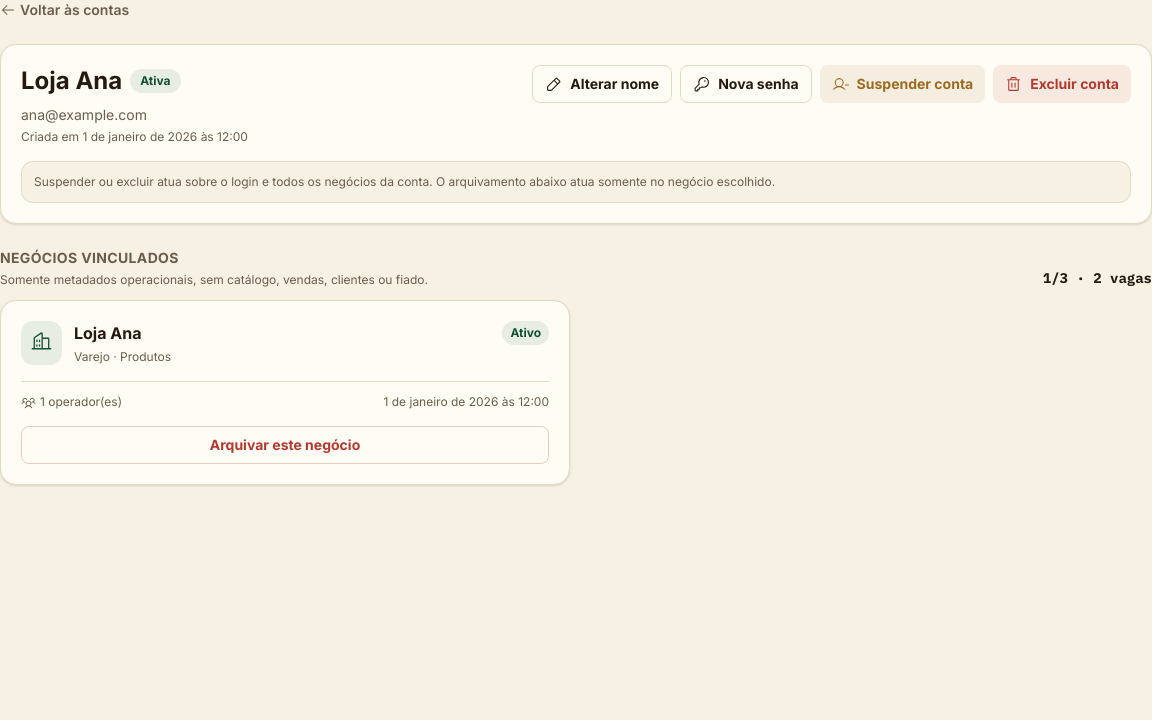
Test: poderes administrativos no detalhe do cliente › só libera a alteração depois que o nome exibido é digitado
The width and height of the screenshot is (1152, 720).
Expected: the heading "Loja Ana" next to "Ativa" is shown, top-left (21, 65), bottom-right (122, 97)
Click the button "Alterar nome": (602, 84) top-left (532, 65), bottom-right (672, 103)
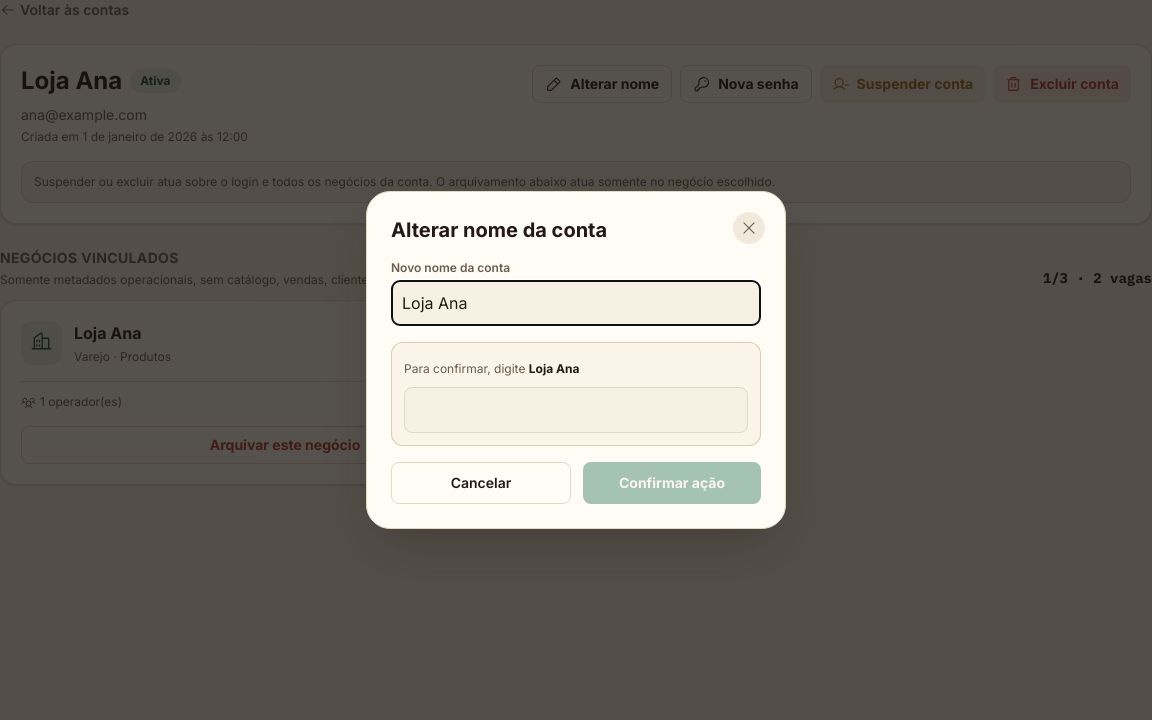
Expected: the button "Confirmar ação" is disabled, top-left (583, 462), bottom-right (761, 504)
Replace the text in the field labelled "Novo nome da conta" with "Mercado Ana": (576, 303) top-left (391, 280), bottom-right (761, 326)
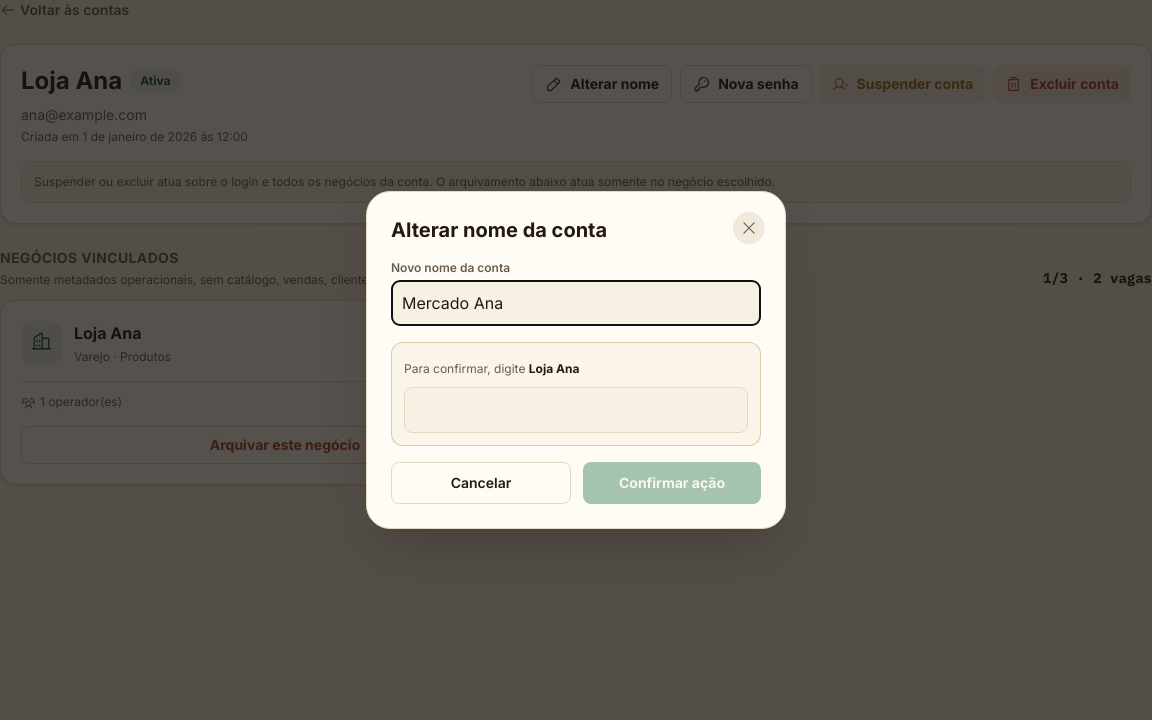
In the field labelled "Para confirmar, digite Loja Ana": (576, 410) top-left (404, 387), bottom-right (748, 433), type "Loja Ana"
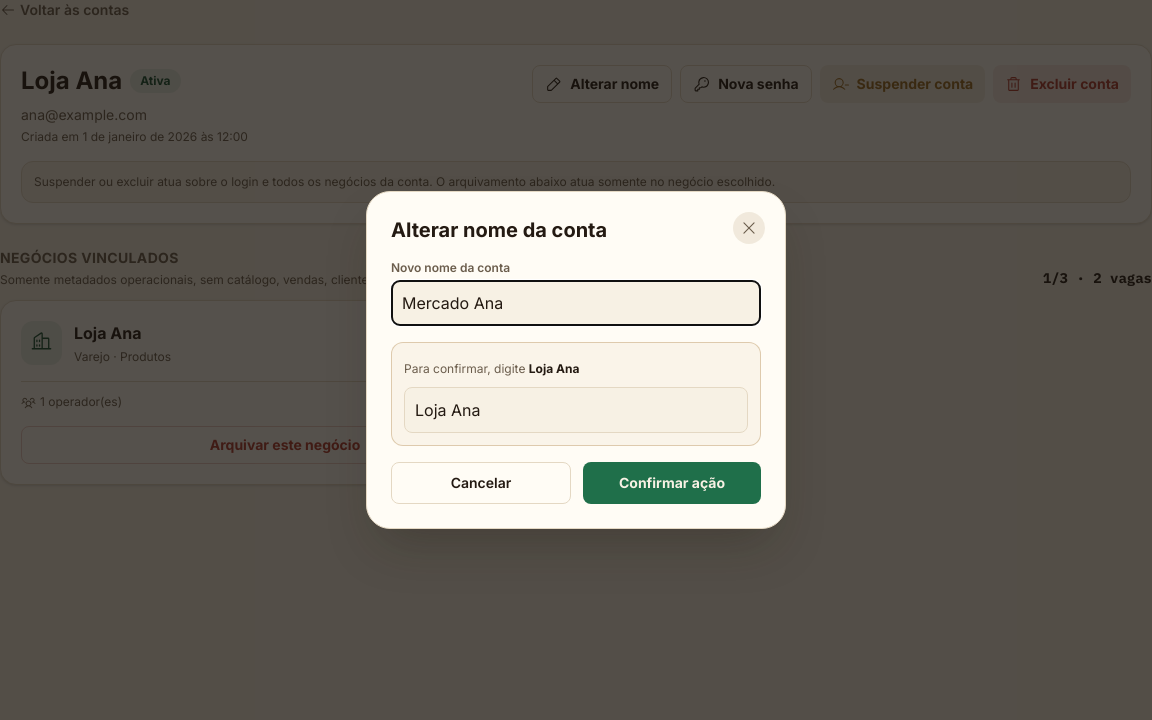
Expected: the button "Confirmar ação" is enabled
Click the button "Confirmar ação": (672, 483) top-left (583, 462), bottom-right (761, 504)
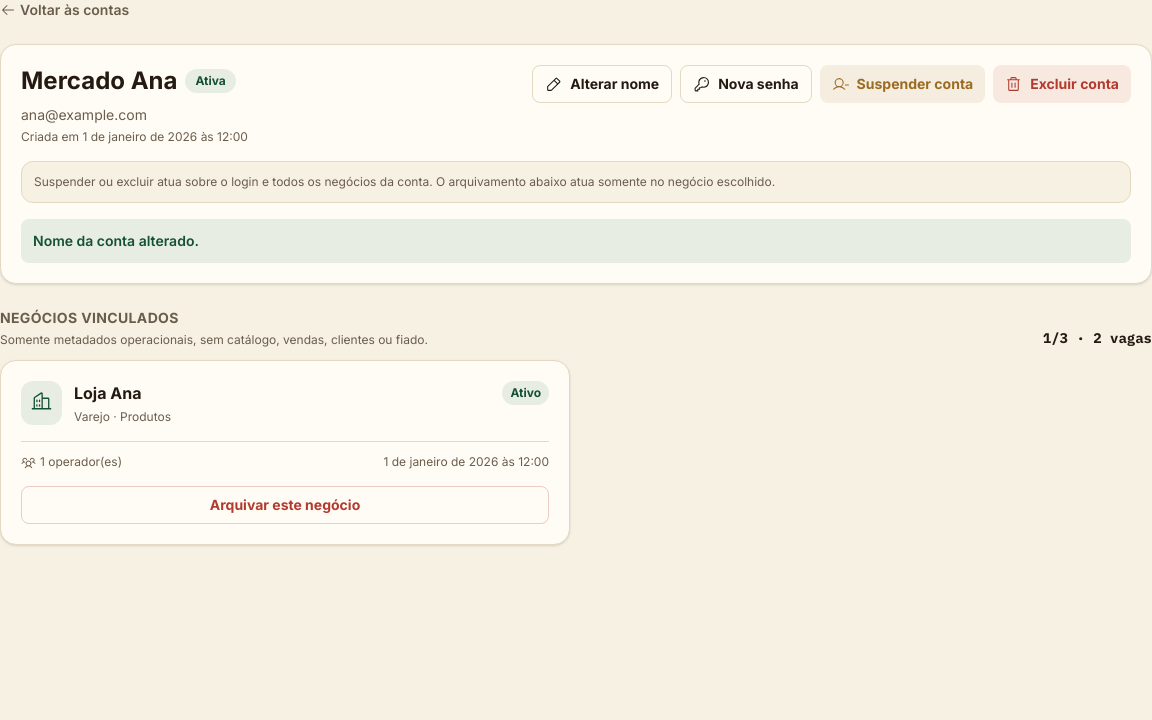
Expected: the heading "Mercado Ana" is shown, top-left (21, 65), bottom-right (178, 97)
